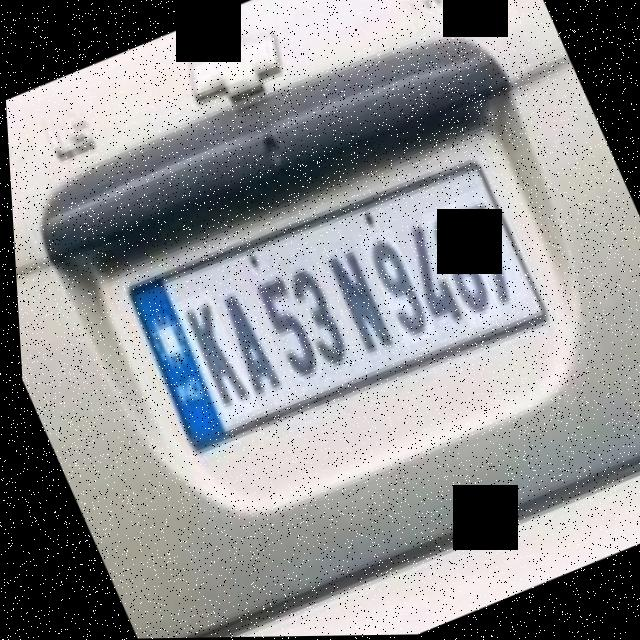3: (274, 250, 356, 378)
4: (387, 213, 468, 340)
5: (241, 261, 326, 391)
7: (446, 187, 527, 312)
8: (419, 204, 500, 331)
9: (356, 229, 434, 348)
A: (201, 275, 288, 409)
K: (170, 290, 256, 423)
N: (312, 236, 401, 372)
